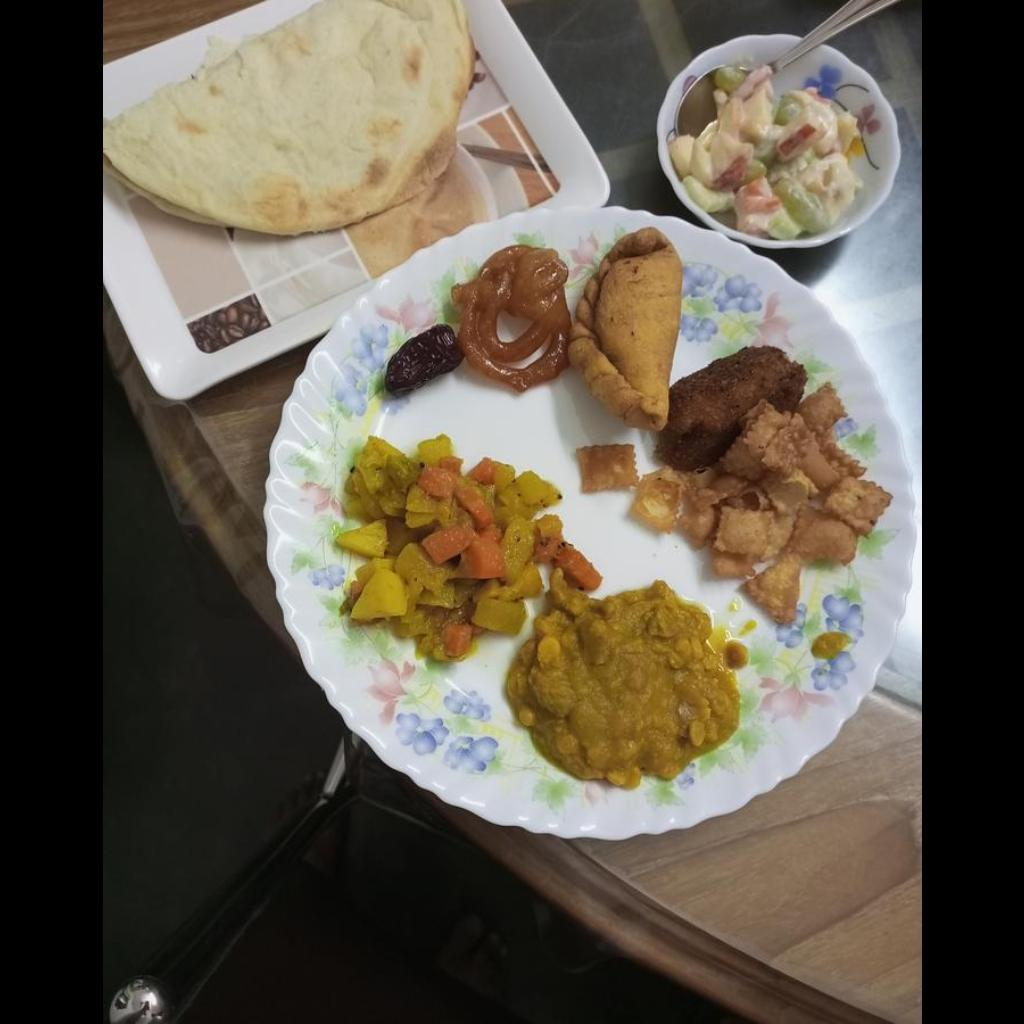chomchom: (576, 385, 890, 624), (568, 229, 680, 431)
chop-alu: (656, 346, 805, 471)
daal: (505, 581, 738, 787)
dates: (385, 324, 449, 397)
jilapi: (454, 240, 570, 386)
ruti: (106, 2, 472, 231)
salad: (664, 47, 888, 246)
vegetable: (333, 435, 599, 661)
